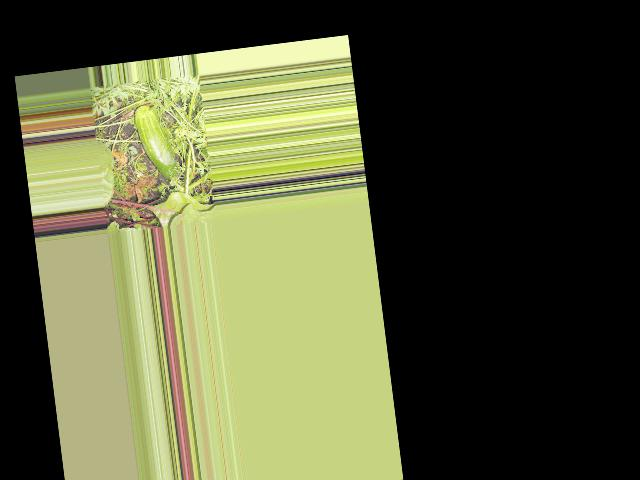cucumber: (133, 103, 180, 183)
